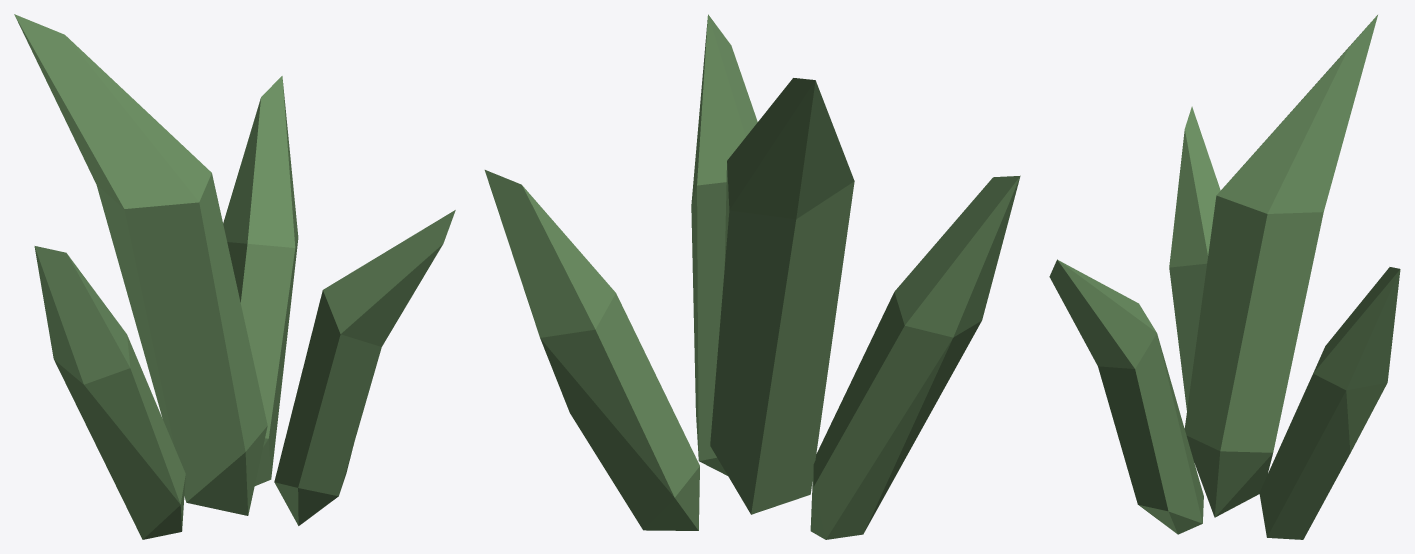
File: env_grass2_mesh_01_v1.glb
3 views of the same model, side by side, from view 1: azimuth 30°, elevation 25°; view 2: azimuth 150°, elevation 25°; view 3: azimuth 270°, elevation 25° (orthographic). The views are drawn at different scales.
Parts seen in each view (by area): view 1: Grass2_LOD0; view 2: Grass2_LOD0; view 3: Grass2_LOD0.
Part boxes in pixels (left/top/right/bottom): Grass2_LOD0: left=14, top=14, right=455, bottom=539; Grass2_LOD0: left=484, top=14, right=1020, bottom=539; Grass2_LOD0: left=1049, top=15, right=1400, bottom=539.
Bounding box in the file's own units: 2.33 × 2.96 × 2.13.
